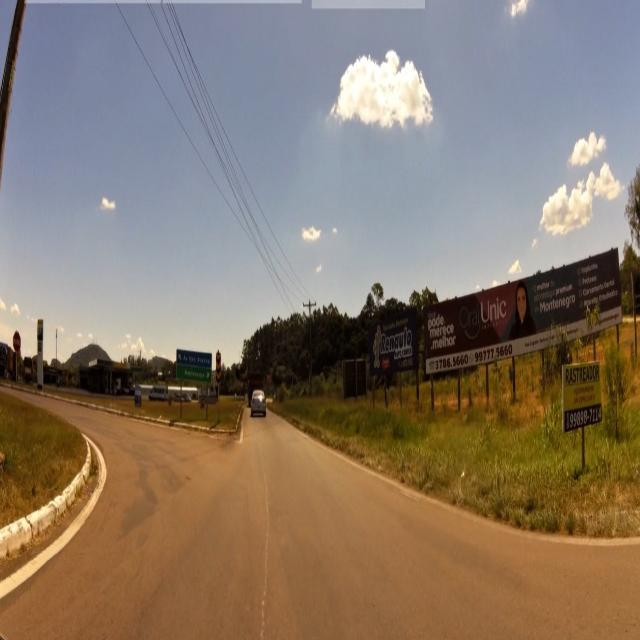MP: (216, 352, 222, 390)
